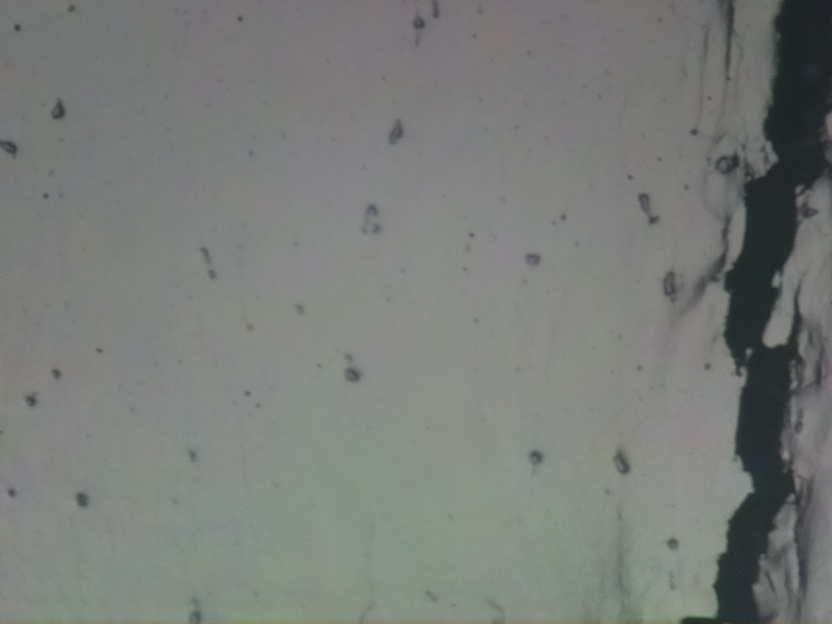crack: (709, 0, 832, 619)
